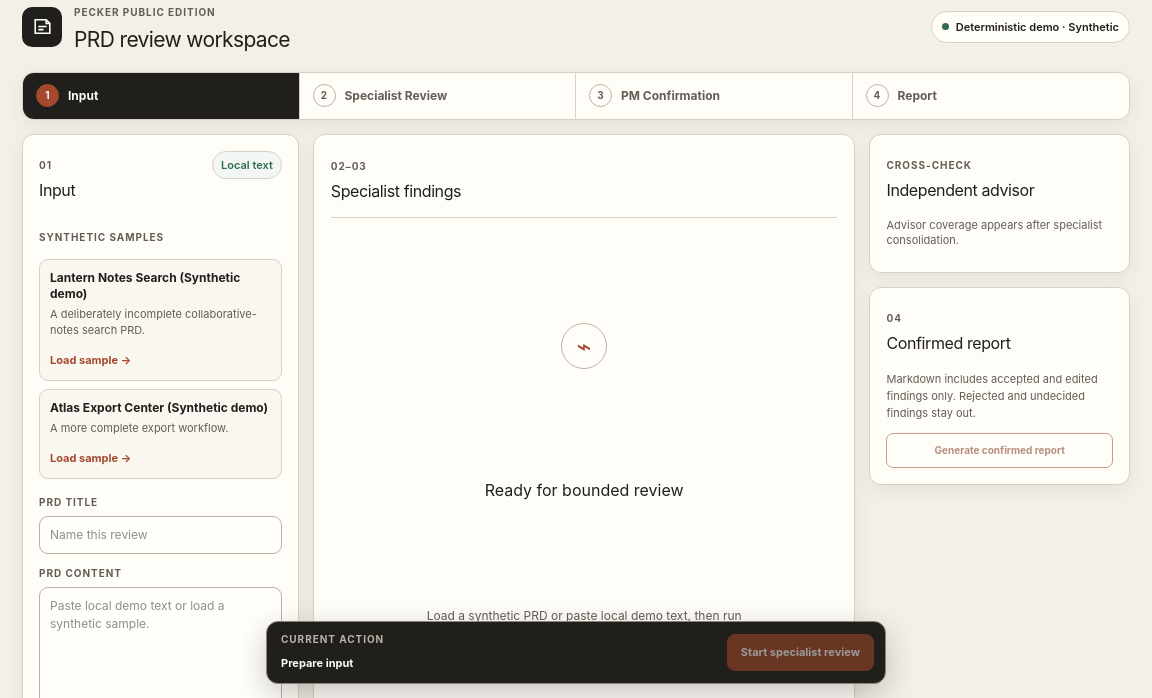
Test: ReviewWorkspace › loads a synthetic sample into the input workspace
This screenshot has width=1152, height=698.
Expected: the text "Lantern Notes Search (Synthetic demo)" is shown, [50,270,271,302]
Expected: the field labelled "PRD title" is empty, [39,516,282,554]
Step 1. Click the button with aria-label "load lantern notes search" → (91, 360), box [50,352,131,368]
(page scrolled)
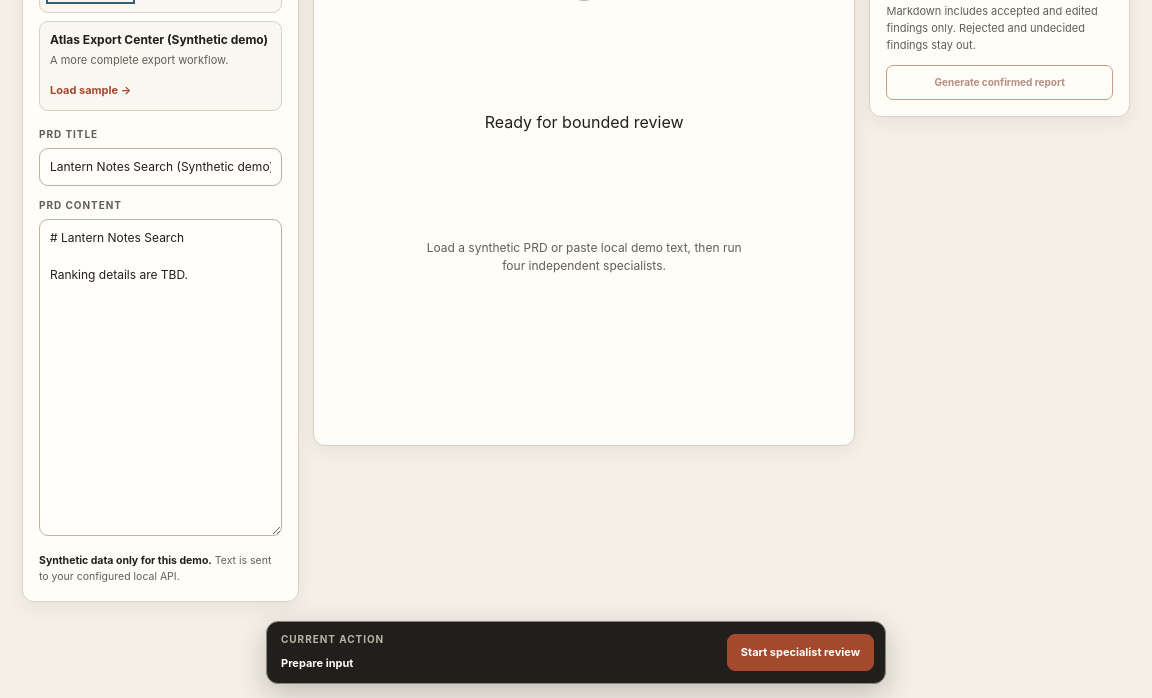
Expected: the text "Synthetic data only for this demo." is shown, [39,554,212,567]
Now the field labelled "PRD title" holds "Lantern Notes Search (Synthetic demo)", box [39,148,282,186]
